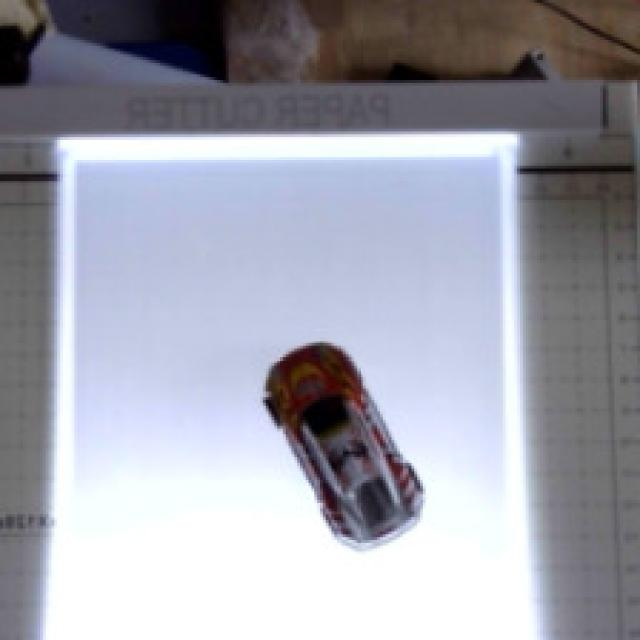Red Car: (233, 320, 456, 574)
